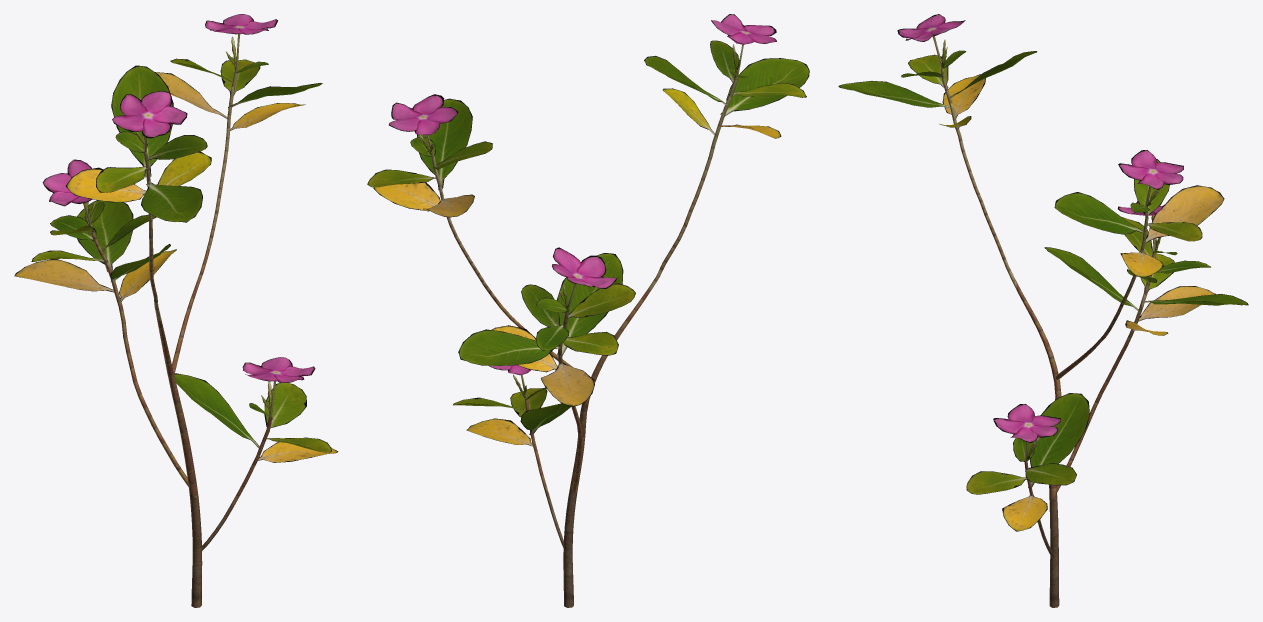
The model's file is periwinkle_plant.glb.
The picture shows the model from 3 angles, left to right: view 1: azimuth 30°, elevation 25°; view 2: azimuth 150°, elevation 25°; view 3: azimuth 270°, elevation 25°; orthographic projection. The views are drawn at different scales.
Visible parts, largest first — view 1: periwinkle_plant_04_LOD0; view 2: periwinkle_plant_04_LOD0; view 3: periwinkle_plant_04_LOD0.
Part boxes in pixels (<box>): periwinkle_plant_04_LOD0: <box>14,14,338,607</box>; periwinkle_plant_04_LOD0: <box>367,14,809,607</box>; periwinkle_plant_04_LOD0: <box>838,14,1248,607</box>.
Bounding box in the file's own units: 0.1558 × 0.265 × 0.1842.
1 material, 1 textured.
